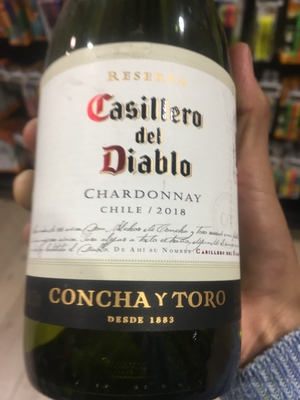casillero del diablo chardonnay: (25, 12, 254, 400)
